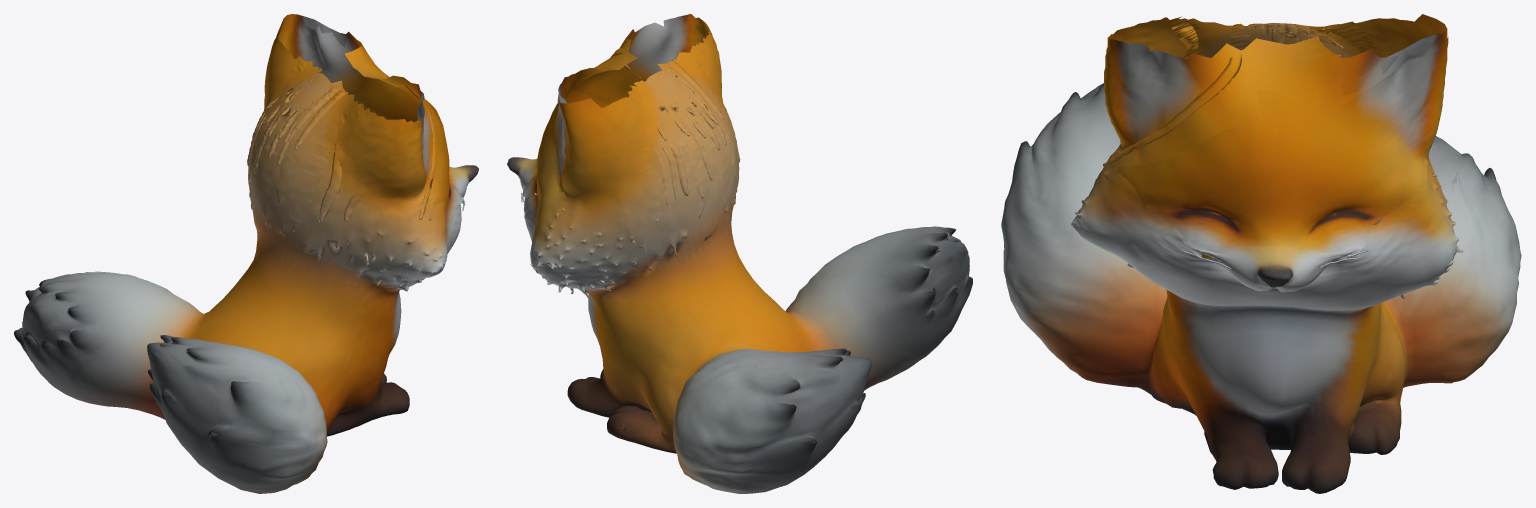
File: fox-20k.glb
3 renders of one model, left to right at view 1: azimuth 30°, elevation 25°; view 2: azimuth 150°, elevation 25°; view 3: azimuth 270°, elevation 25°, orthographic. The views are drawn at different scales.
Parts seen in each view (by area): view 1: node_622eabad-3dea-4c73-883d-ec0d18f6c2f3; view 2: node_622eabad-3dea-4c73-883d-ec0d18f6c2f3; view 3: node_622eabad-3dea-4c73-883d-ec0d18f6c2f3.
Part boxes in pixels (bbox=[...]): node_622eabad-3dea-4c73-883d-ec0d18f6c2f3: bbox=[14, 14, 478, 493]; node_622eabad-3dea-4c73-883d-ec0d18f6c2f3: bbox=[507, 14, 972, 493]; node_622eabad-3dea-4c73-883d-ec0d18f6c2f3: bbox=[1001, 14, 1521, 493].
Bounding box in the file's own units: 1 × 0.8121 × 0.863.
Materials: 1 (1 with a texture image).
